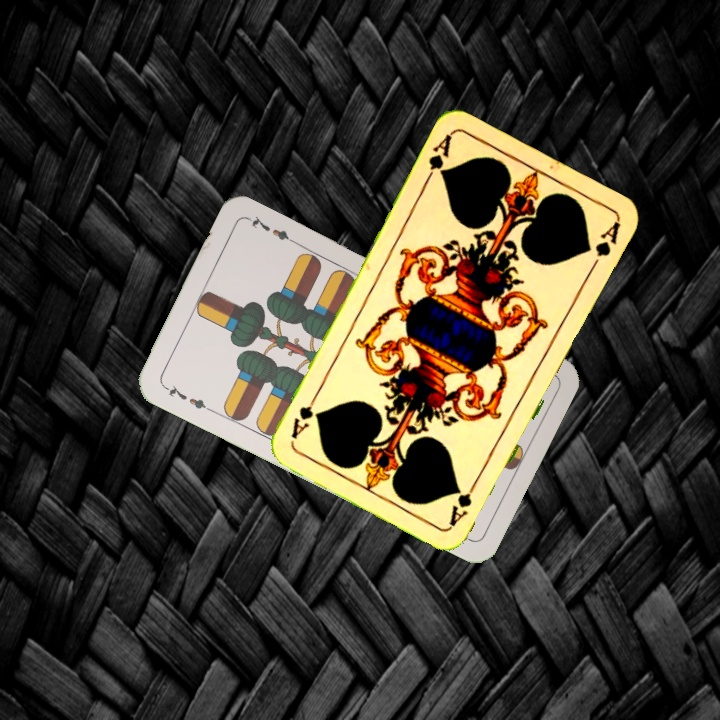E7: (159, 380, 214, 414)
GA: (420, 130, 455, 186), (445, 474, 481, 528)
